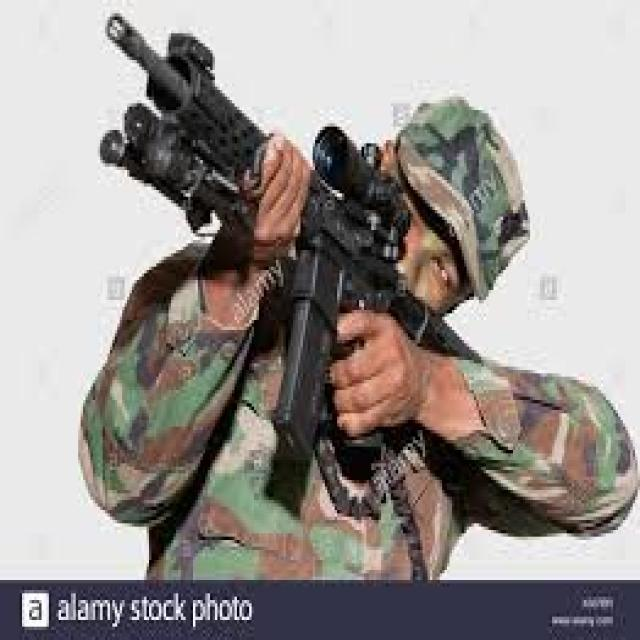soldier: (79, 2, 640, 579)
